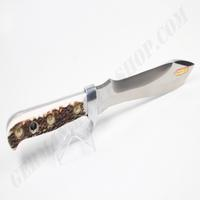knife: (7, 51, 197, 157)
